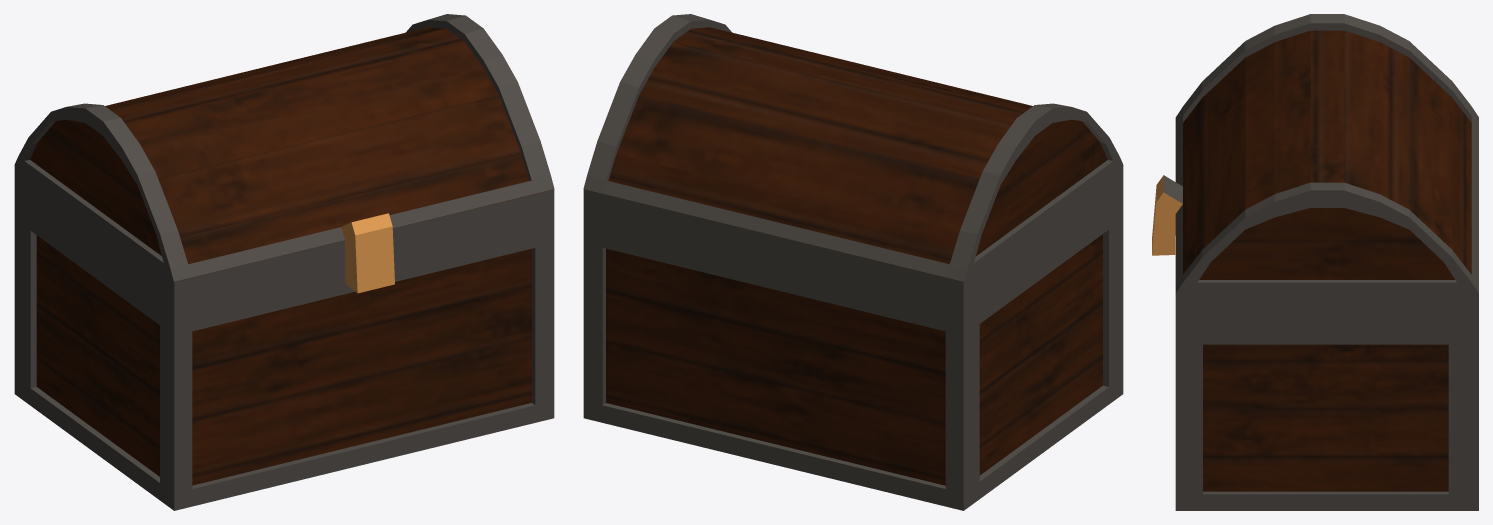
File: Tier2Chest.glb
3 renders of one model, left to right at view 1: azimuth 30°, elevation 25°; view 2: azimuth 150°, elevation 25°; view 3: azimuth 270°, elevation 25°, orthographic. The views are drawn at different scales.
Visible parts, largest first — view 1: Tier2Chest; view 2: Tier2Chest; view 3: Tier2Chest.
Boxes of the visible parts, x1,y1,x2,y2 form: Tier2Chest: (14,14,554,510); Tier2Chest: (583,14,1123,510); Tier2Chest: (1152,14,1478,510).
Bounding box in the file's own units: 0.686 × 0.5817 × 0.5375.
3 materials, 1 textured.
